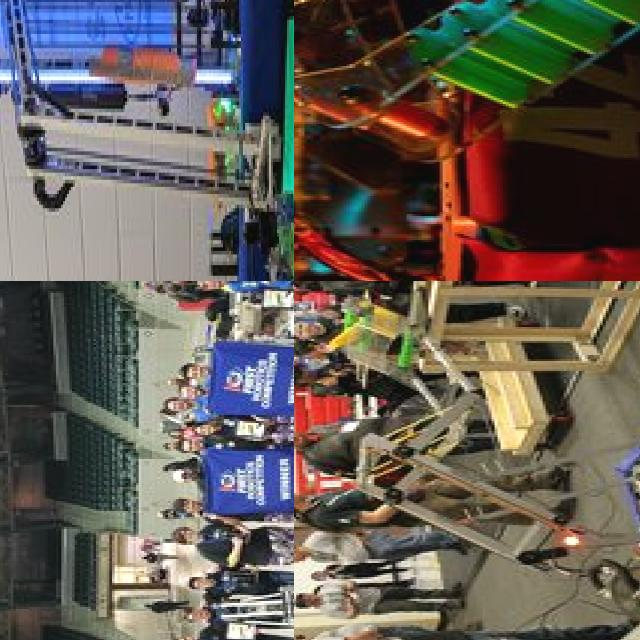FRC-Robots: (294, 0, 640, 281), (0, 0, 294, 281), (294, 399, 640, 617), (199, 553, 294, 640), (222, 281, 294, 344)
